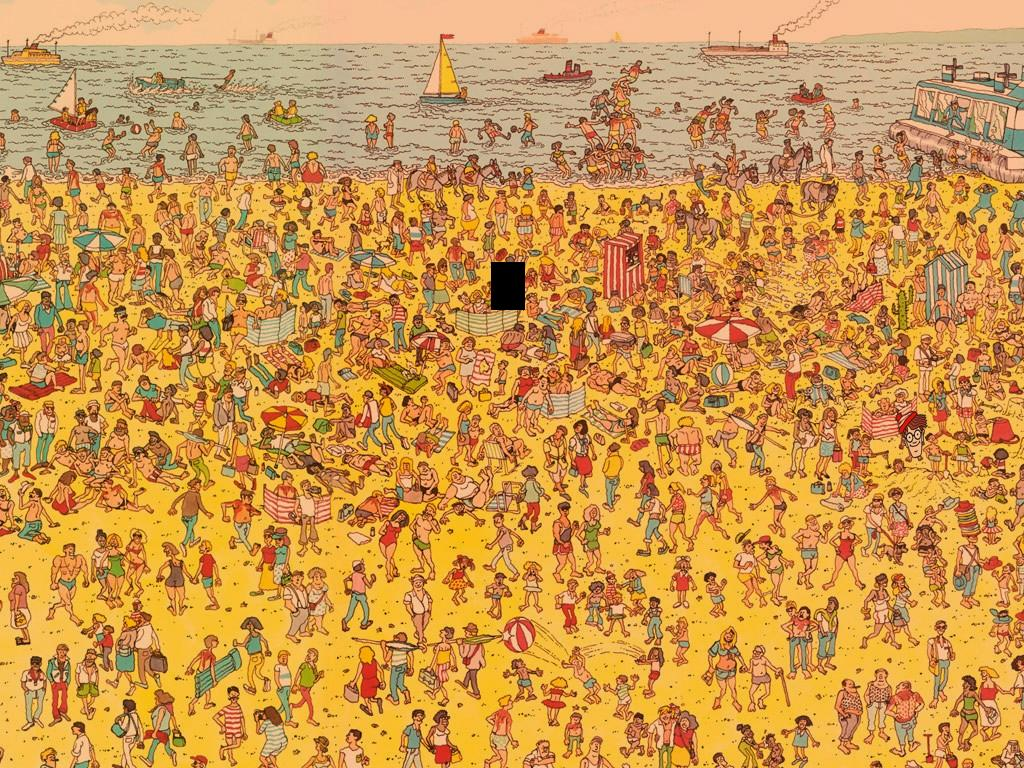waldos: (895, 411, 929, 459)
